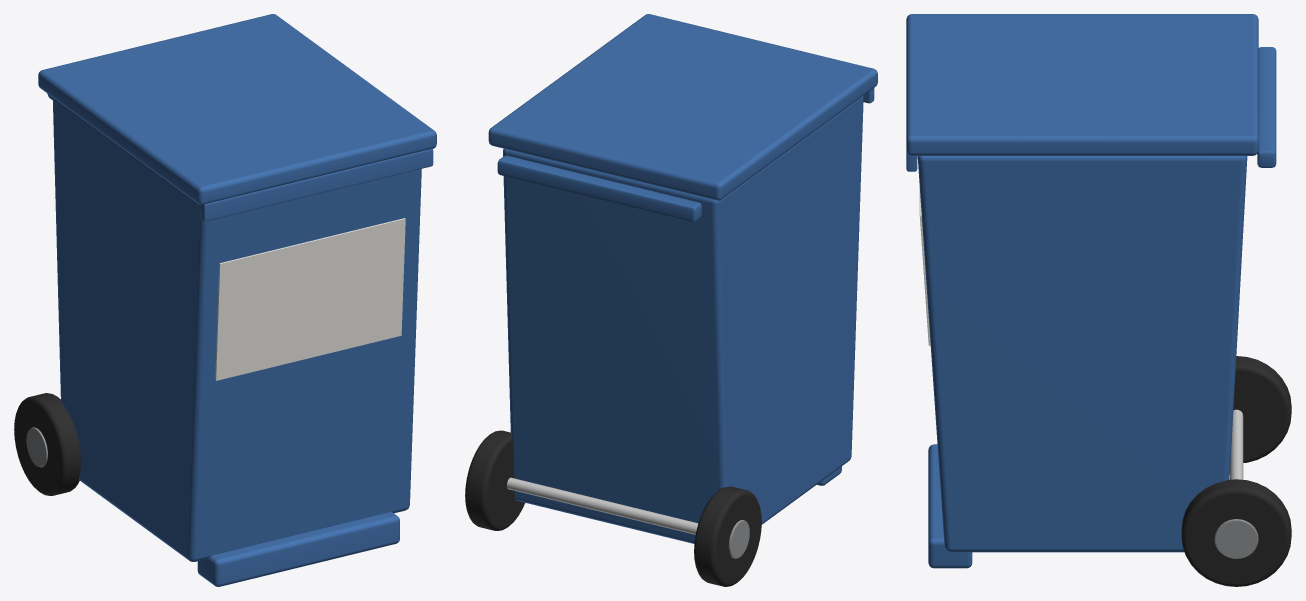
Rendered from bin_plastic.glb.
3 views of the same model, side by side, from view 1: azimuth 30°, elevation 25°; view 2: azimuth 150°, elevation 25°; view 3: azimuth 270°, elevation 25° (orthographic). The views are drawn at different scales.
Visible parts, largest first — view 1: SM_bin_plastic; view 2: SM_bin_plastic; view 3: SM_bin_plastic.
Part boxes in pixels (left/top/right/bottom): SM_bin_plastic: left=14, top=14, right=436, bottom=586; SM_bin_plastic: left=465, top=14, right=877, bottom=586; SM_bin_plastic: left=906, top=14, right=1291, bottom=586.
Bounding box in the file's own units: 0.588 × 0.895 × 0.7.
